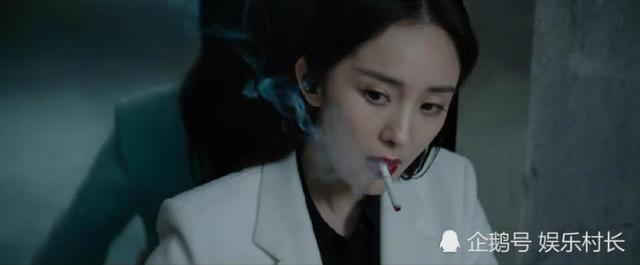SafeDriving: (354, 78, 398, 110), (411, 88, 451, 120)
Smoking: (376, 160, 406, 215)
